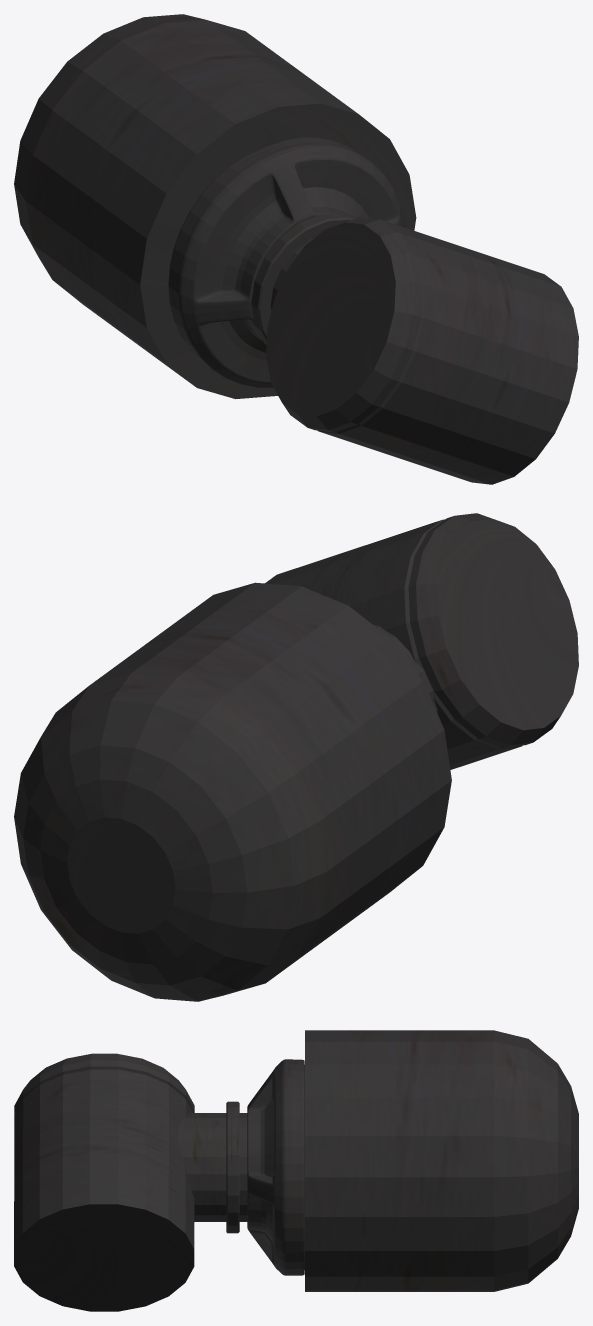
File: SM_EN_1002_chuangcang08.FBX
3 renders of one model, top to bottom at view 1: azimuth 30°, elevation 25°; view 2: azimuth 150°, elevation 25°; view 3: azimuth 270°, elevation 25°, orthographic. The views are drawn at different scales.
Parts seen in each view (by area): view 1: SM_EN_1002_chuangcang08; view 2: SM_EN_1002_chuangcang08; view 3: SM_EN_1002_chuangcang08.
Boxes of the visible parts, x1,y1,x2,y2 form: SM_EN_1002_chuangcang08: (14,14,578,484); SM_EN_1002_chuangcang08: (14,513,578,1001); SM_EN_1002_chuangcang08: (14,1030,578,1311).
Size of the model in its own units: 38.58 by 37.42 by 78.38.
